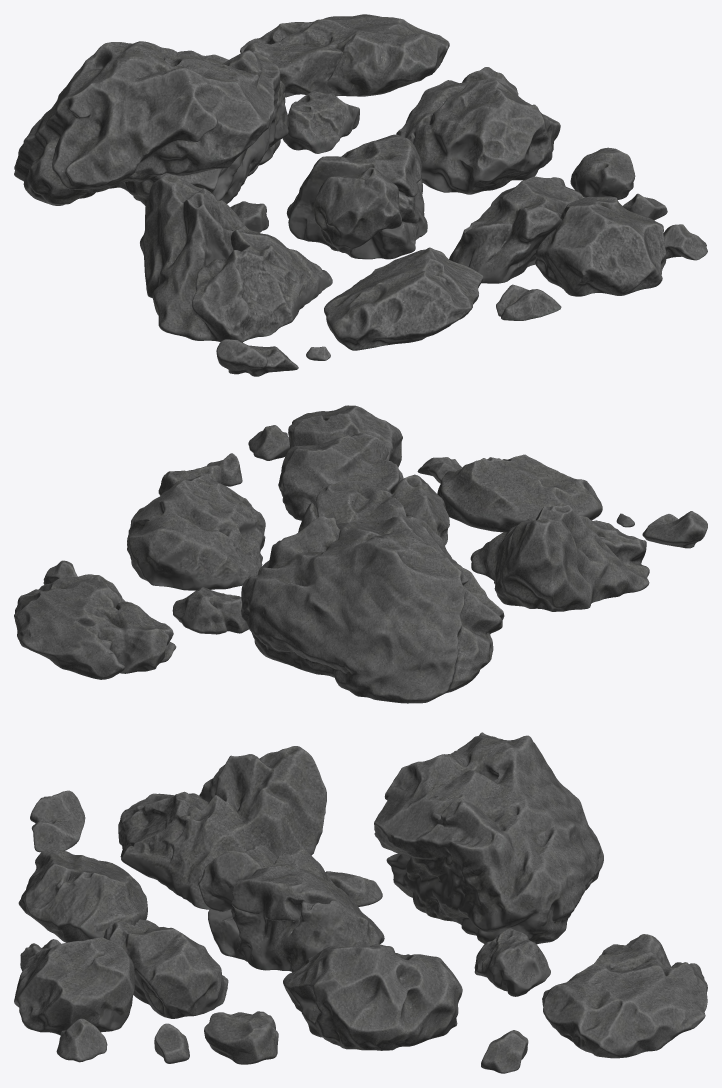
Rendered from moon_rockfield.glb.
3 renders of one model, top to bottom at view 1: azimuth 30°, elevation 25°; view 2: azimuth 150°, elevation 25°; view 3: azimuth 270°, elevation 25°, orthographic. The views are drawn at different scales.
Parts seen in each view (by area): view 1: frame; view 2: frame; view 3: frame.
Boxes of the visible parts, x1=… form: frame: x1=14, y1=14, x2=707, y2=376; frame: x1=14, y1=405, x2=707, y2=703; frame: x1=14, y1=732, x2=707, y2=1073.
Size of the model in its own units: 9 by 2.37 by 10.29.
Materials: 1 (1 with a texture image).
